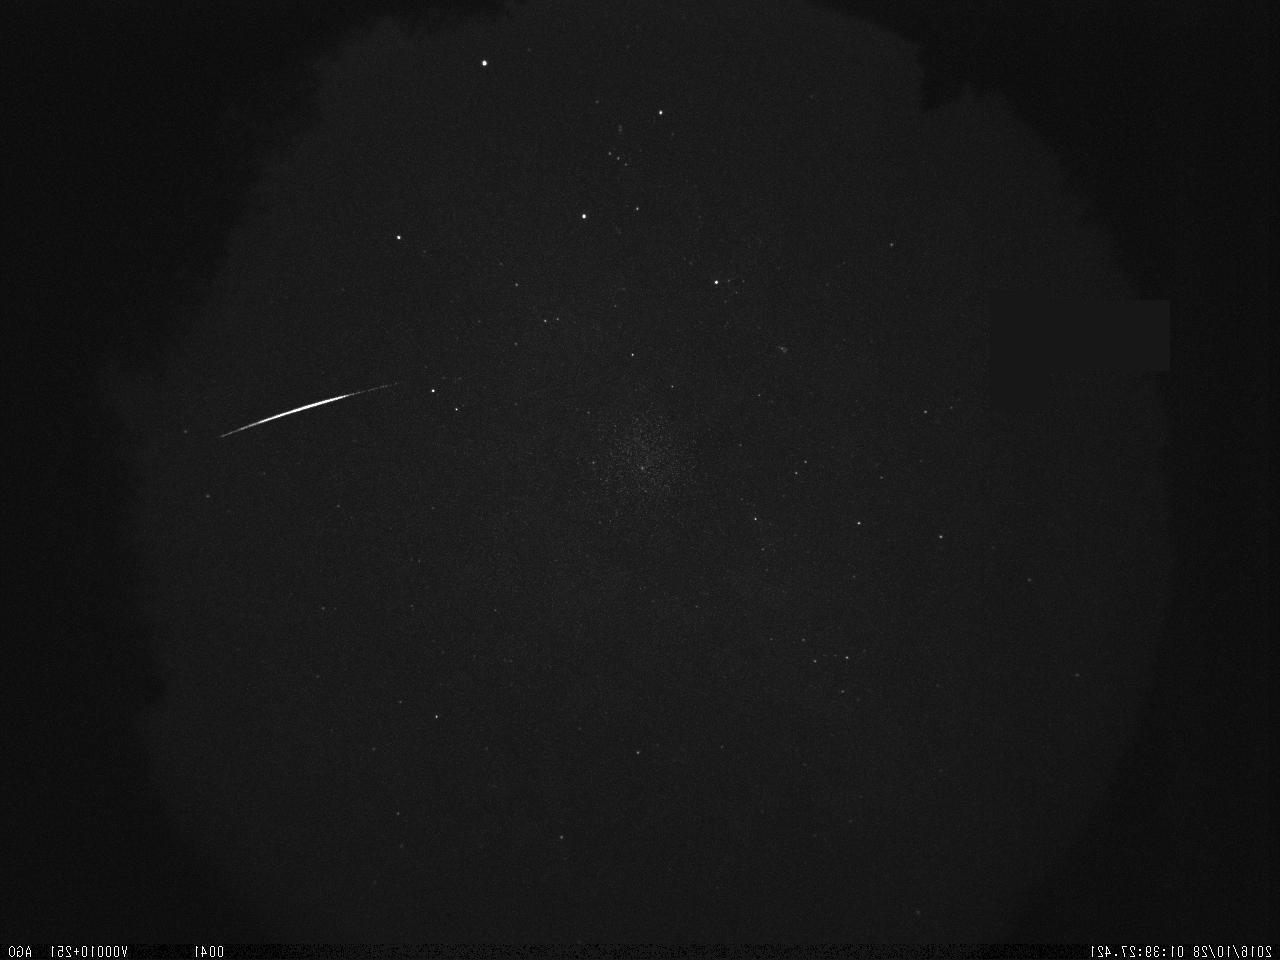meteor: (168, 322, 487, 520)
